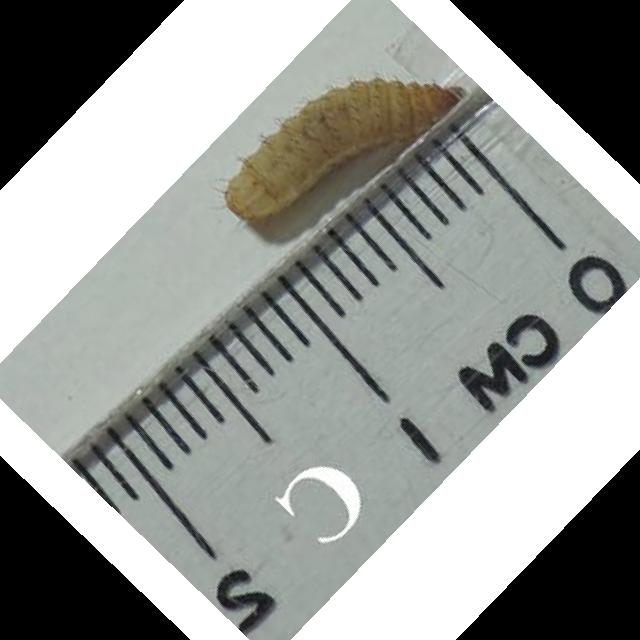Maggot: (220, 66, 465, 220)
